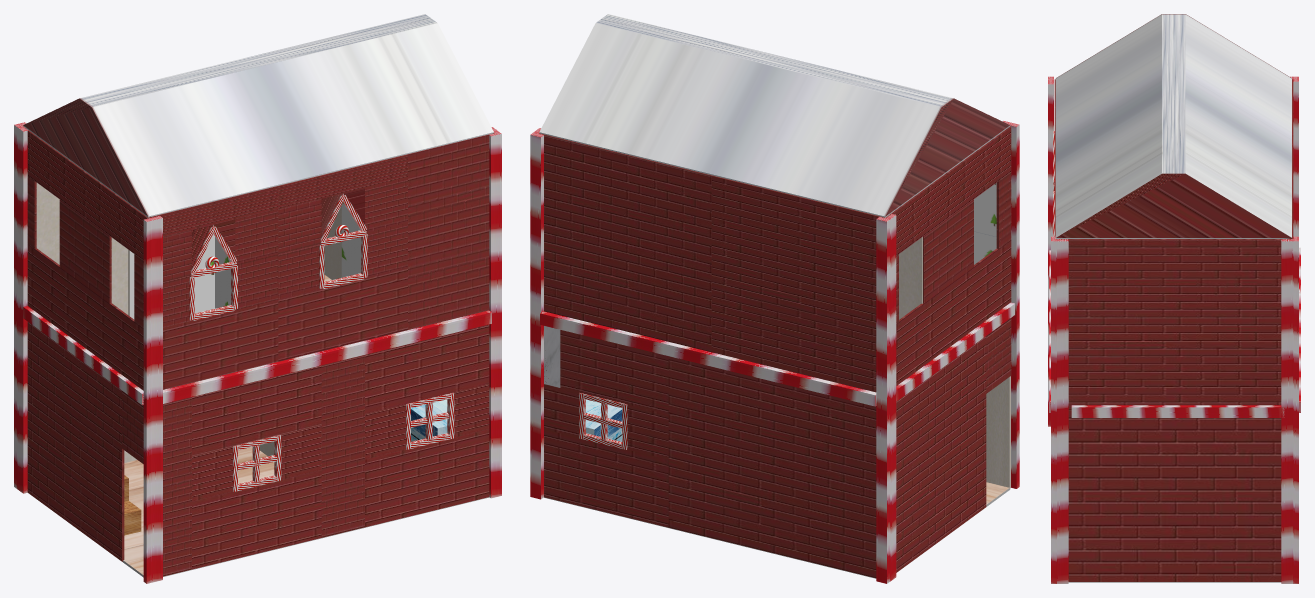
Rendered from casa3.obj.
3 views of the same model, side by side, from view 1: azimuth 30°, elevation 25°; view 2: azimuth 150°, elevation 25°; view 3: azimuth 270°, elevation 25° (orthographic). The views are drawn at different scales.
Parts seen in each view (by area): view 1: pCube121; view 2: pCube121; view 3: pCube121.
Part boxes in pixels (bbox=[...]): pCube121: bbox=[14, 14, 501, 583]; pCube121: bbox=[530, 14, 1019, 583]; pCube121: bbox=[1048, 14, 1300, 583].
Bounding box in the file's own units: 1650 × 1910 × 1070.
50 materials, 50 textured.
